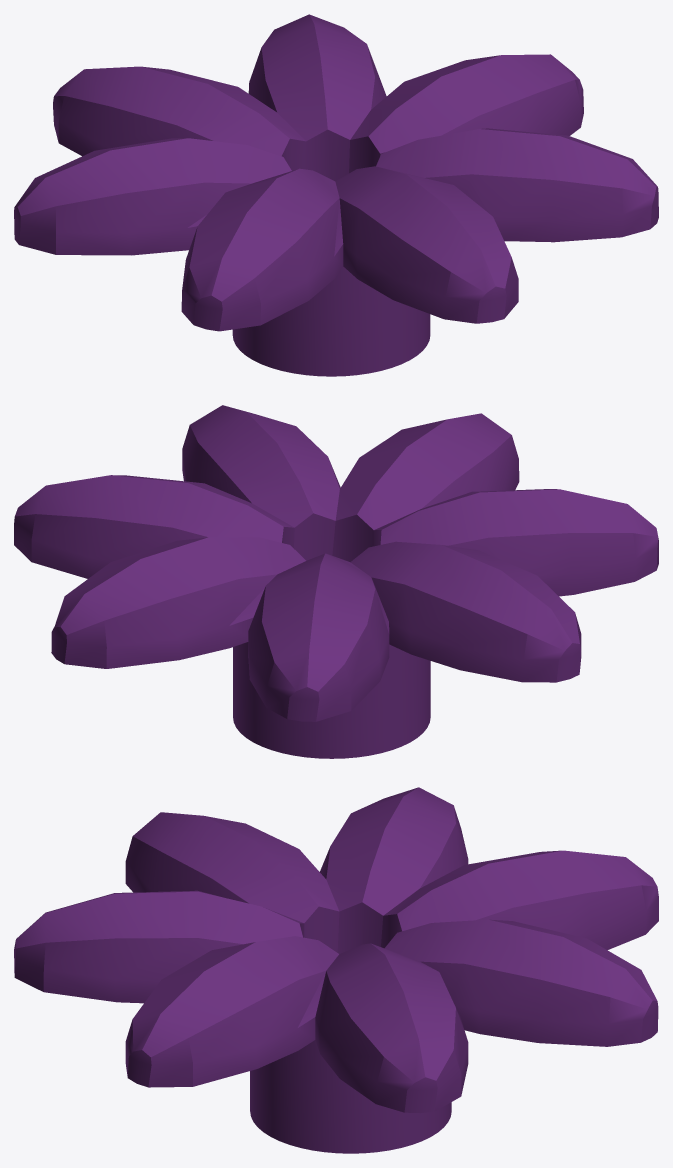
File: friends_assessories_flower_with_7_thin_petals_and_pin_medium_la.obj
The picture shows the model from 3 angles, top to bottom: view 1: azimuth 30°, elevation 25°; view 2: azimuth 150°, elevation 25°; view 3: azimuth 270°, elevation 25°; orthographic projection.
Visible parts, largest first — view 1: friends_assessories_flower_with_7_thin_petals_and_pin_medium_la; view 2: friends_assessories_flower_with_7_thin_petals_and_pin_medium_la; view 3: friends_assessories_flower_with_7_thin_petals_and_pin_medium_la.
Boxes of the visible parts, x1=… form: friends_assessories_flower_with_7_thin_petals_and_pin_medium_la: x1=14, y1=14, x2=658, y2=376; friends_assessories_flower_with_7_thin_petals_and_pin_medium_la: x1=14, y1=405, x2=658, y2=758; friends_assessories_flower_with_7_thin_petals_and_pin_medium_la: x1=14, y1=787, x2=658, y2=1153.
Size of the model in its own units: 26.15 by 9.61 by 25.59.
